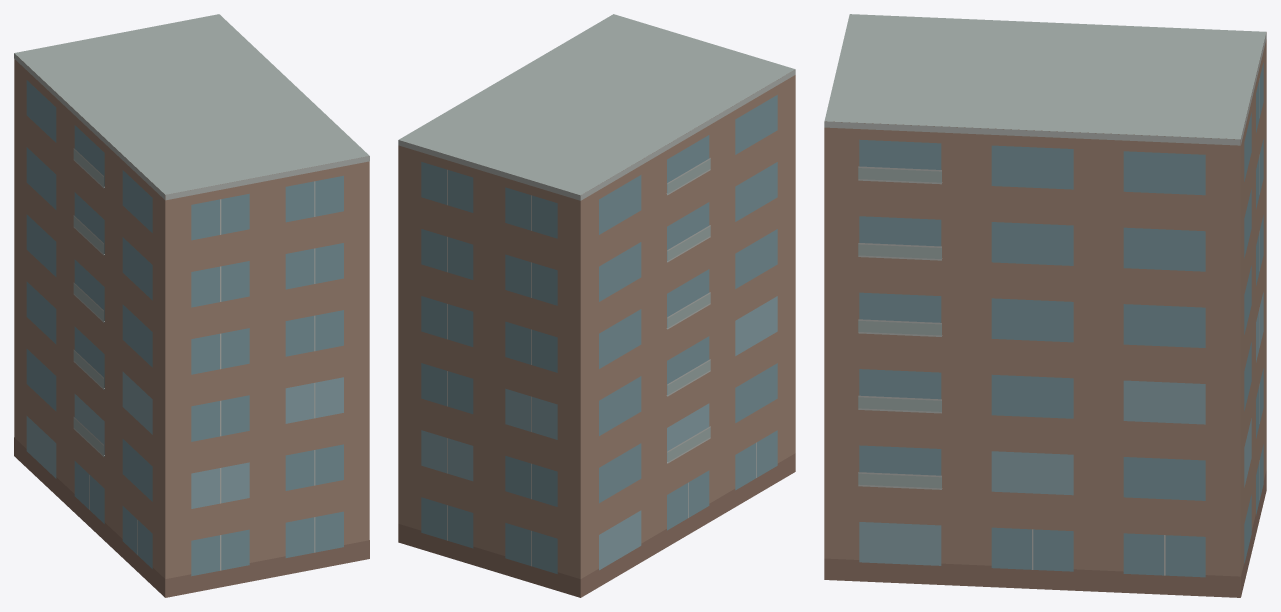
The model's file is survey-upis-32960268.glb.
3 views of the same model, side by side, from view 1: azimuth 30°, elevation 25°; view 2: azimuth 150°, elevation 25°; view 3: azimuth 270°, elevation 25° (orthographic). The views are drawn at different scales.
Visible parts, largest first — view 1: survey-upis-32960268.tmp; view 2: survey-upis-32960268.tmp; view 3: survey-upis-32960268.tmp.
Boxes of the visible parts, <box> form: survey-upis-32960268.tmp: <box>14,14,369,597</box>; survey-upis-32960268.tmp: <box>398,14,795,597</box>; survey-upis-32960268.tmp: <box>824,14,1266,597</box>.
Bounding box in the file's own units: 10.51 × 17.9 × 15.65.
